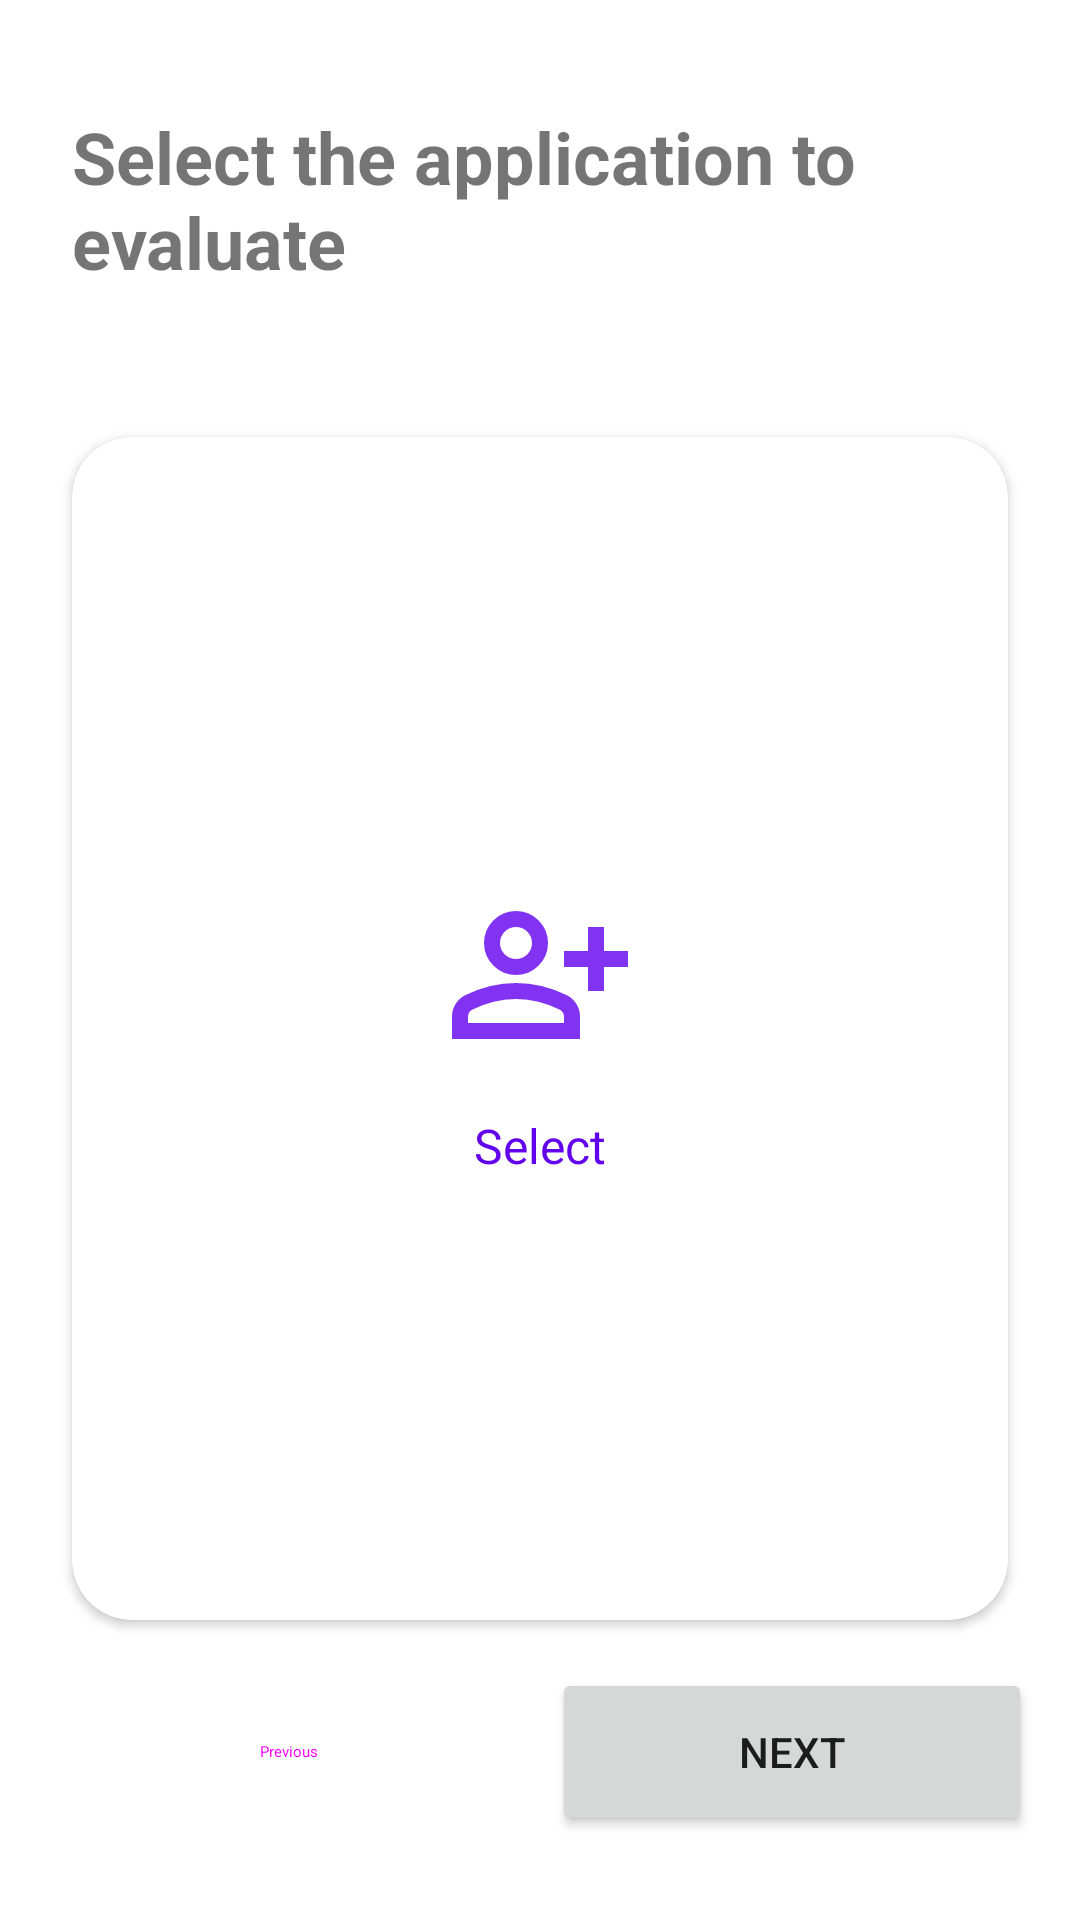

Screen size 1080px x 1920px. Icon name, then its center in pixels as (x=x, y=y):
add: (x=540, y=975)
